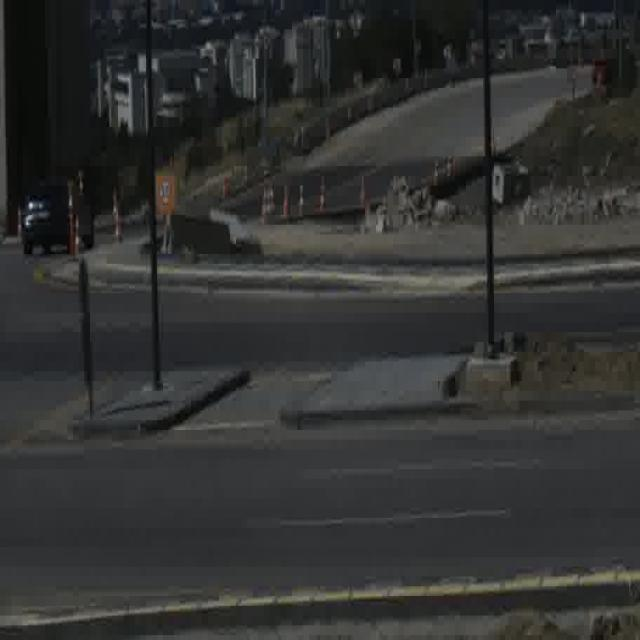Car: (23, 177, 91, 253), (590, 56, 616, 86)
